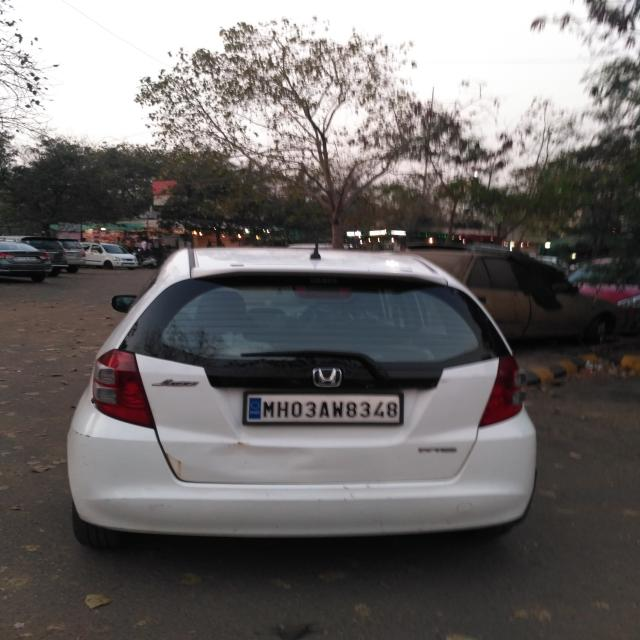Number-Plate: (247, 392, 401, 424)
